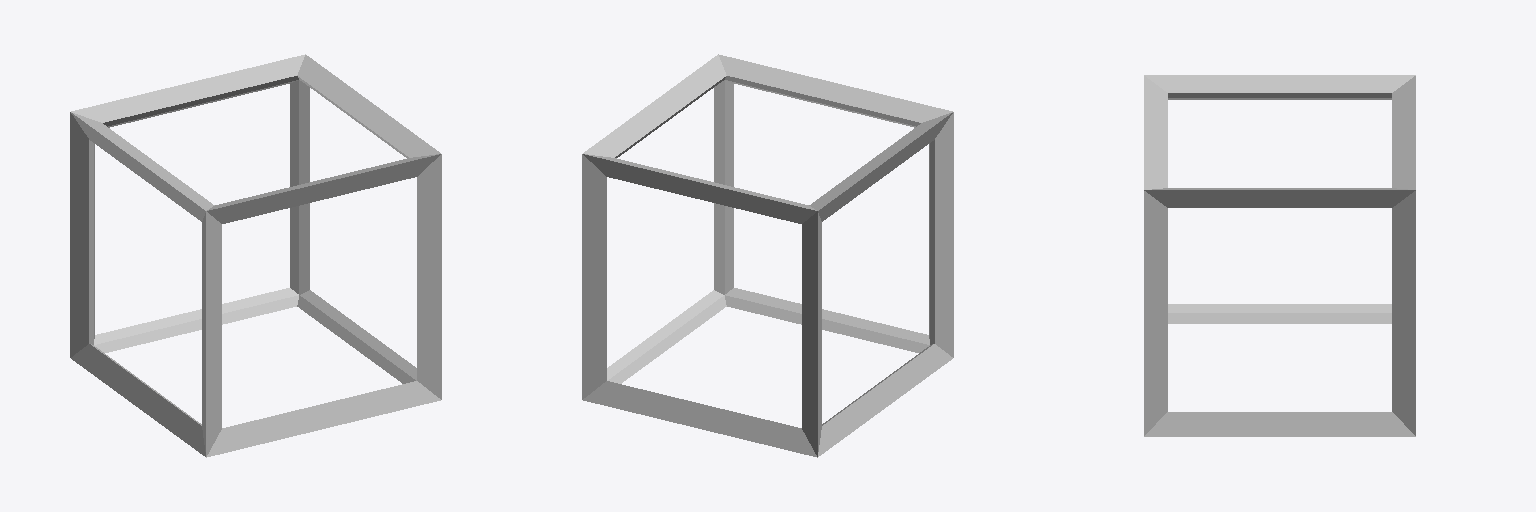
The model's file is unit block.obj.
The picture shows the model from 3 angles: view 1: azimuth 30°, elevation 25°; view 2: azimuth 150°, elevation 25°; view 3: azimuth 270°, elevation 25°; orthographic projection.
Parts seen in each view (by area): view 1: Unit_block; view 2: Unit_block; view 3: Unit_block.
Boxes of the visible parts, box(x1,y1,x2,y2) form: Unit_block: box(70, 54, 441, 457); Unit_block: box(582, 54, 953, 457); Unit_block: box(1144, 75, 1415, 436).
Bounding box in the file's own units: 2 × 2 × 2.